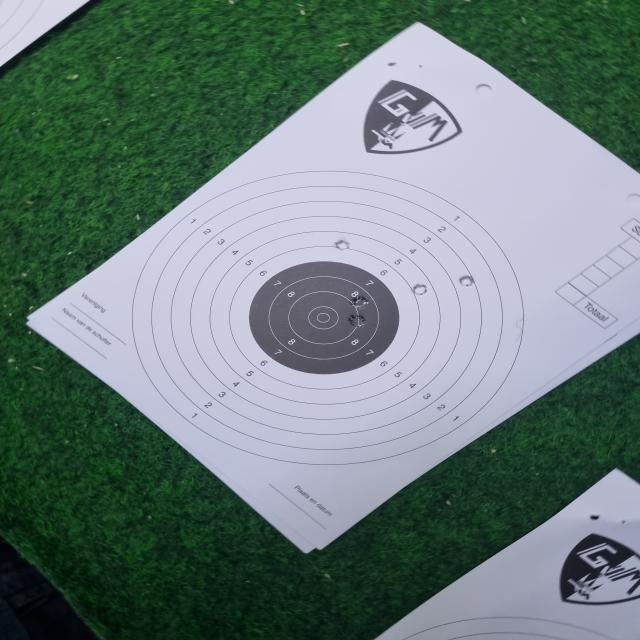10: (348, 314, 366, 328), (351, 296, 369, 308)
4: (459, 275, 475, 287)
6: (334, 239, 350, 251), (412, 284, 428, 296)
Black Contour: (248, 260, 400, 376)
Target: (130, 173, 528, 464), (398, 616, 616, 640)
